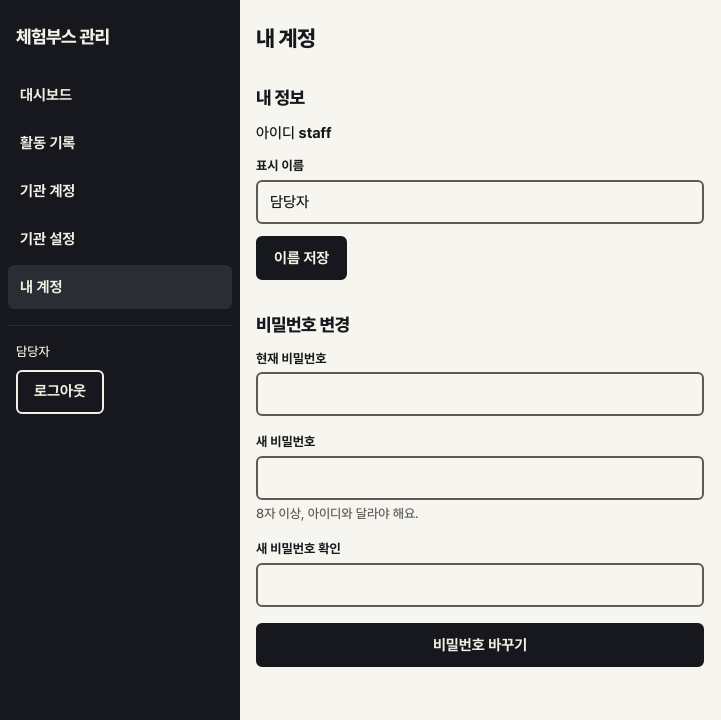
Test: 내 계정 › 표시 이름 422 는 입력란에 보인다
Click the button "이름 저장" at (302, 258), box [256,236,347,280]
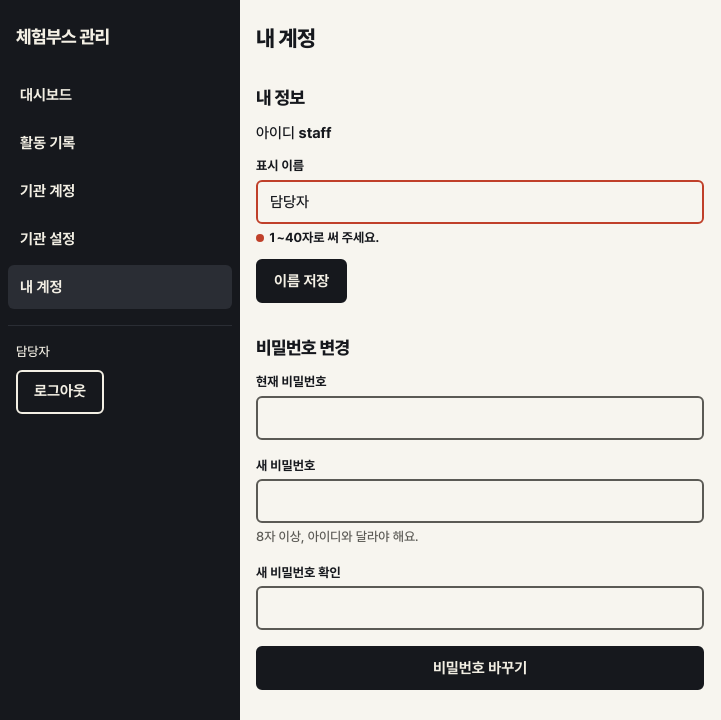
expect the text "1~40자로 써 주세요." is shown: met, box [256,230,379,245]
